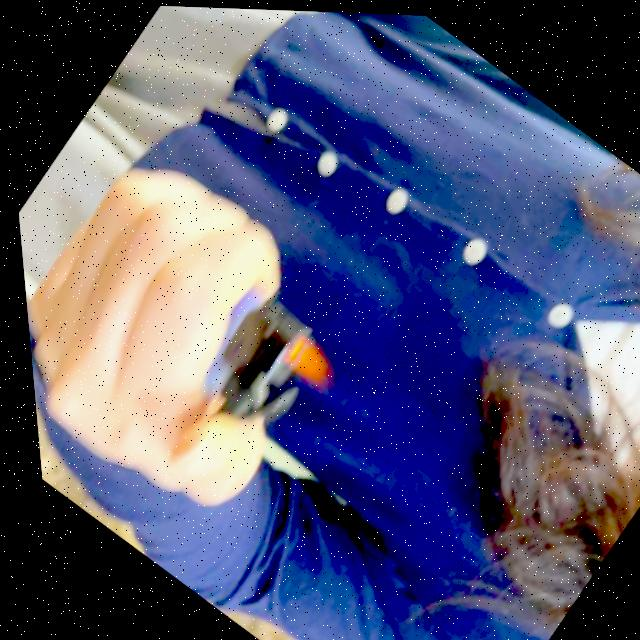Fire: (271, 325, 340, 392)
